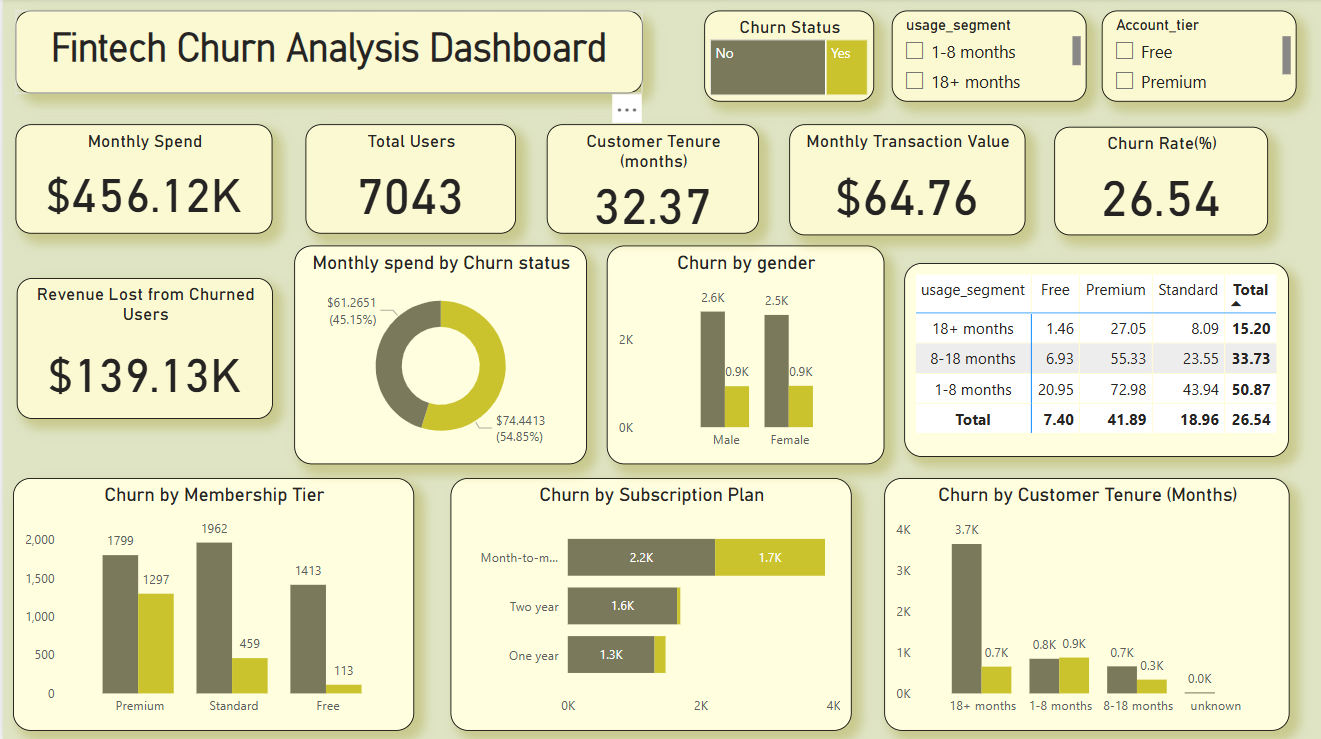

Layout of this report page (visuals, bound fields, positions):
{"tool":"powerbi","page":{"name":"Page 1","canvas":[1280,720],"ordinal":0},"visuals":[{"type":"barChart","title":"Churn by Subscription Plan","fields":{"Category":["customer_churn.plan_type"],"Series":["customer_churn.Churn"],"Y":["CountNonNull(customer_churn.Churn)"]},"box":[431.9,463.3,387.3,243.7],"z":0},{"type":"clusteredColumnChart","title":" Churn by Membership Tier","fields":{"Series":["customer_churn.Churn"],"Y":["CountNonNull(customer_churn.Churn)"],"Category":["customer_churn.Account_tier"]},"box":[9.7,463.3,387.3,243.7],"z":1000},{"type":"clusteredColumnChart","title":"Churn by gender ","fields":{"Series":["customer_churn.Churn"],"Y":["CountNonNull(customer_churn.Churn)"],"Category":["customer_churn.gender"]},"box":[582.7,238.9,267.8,211.1],"z":2000},{"type":"clusteredColumnChart","title":"Churn by Customer Tenure (Months)","fields":{"Series":["customer_churn.Churn"],"Y":["CountNonNull(customer_churn.Churn)"],"Category":["customer_churn.usage_segment"]},"box":[850.5,463.3,390.9,243.7],"z":3000},{"type":"card","title":"Churn Rate(%)","fields":{"Values":["customer_churn.Churn_Rate_(%)"]},"box":[1014.6,124.3,206.3,105],"z":4000},{"type":"card","title":"Customer Tenure (months)","fields":{"Values":["customer_churn.Measure"]},"box":[525.3,122.4,204.9,105.9],"z":5000},{"type":"card","title":"Total Users","fields":{"Values":["customer_churn.total_users"]},"box":[292.3,122.1,203.1,105.7],"z":6000},{"type":"donutChart","title":"Monthly spend by Churn status","fields":{"Y":["Avg(customer_churn.MonthlySpend)"],"Category":["customer_churn.Churn"]},"box":[281.1,238.9,282.3,211.1],"z":7000},{"type":"card","title":"Revenue Lost from Churned Users","fields":{"Values":["customer_churn.Revenue_lost_month"]},"box":[13.3,270.2,247.3,136.3],"z":8000},{"type":"card","title":"Monthly Spend","fields":{"Values":["customer_churn.total_monthly_spend"]},"box":[12.3,122.1,248.4,105.7],"z":9000},{"type":"card","title":"\tMonthly Transaction Value","fields":{"Values":["customer_churn.avg_spnd"]},"box":[758.9,121.9,228,107.4],"z":10000},{"type":"textbox","box":[12.1,12.1,605.6,79.6],"z":11000},{"type":"slicer","fields":{"Values":["customer_churn.Account_tier"]},"box":[1060.7,12.3,188,87.8],"z":12000},{"type":"slicer","fields":{"Values":["customer_churn.usage_segment"]},"box":[857.8,12.1,188.2,88.1],"z":14000},{"type":"treemap","title":" Churn Status","fields":{"Group":["customer_churn.Churn"],"Values":["customer_churn.total_users"]},"box":[676.8,12.1,164.1,88.1],"z":15000},{"type":"pivotTable","fields":{"Values":["customer_churn.Churn_Rate_(%)"],"Columns":["customer_churn.Account_tier"],"Rows":["customer_churn.usage_segment"]},"box":[869.8,255.8,371.6,187],"z":16000}]}

Visuals, with their boxes in screenshot pixels (x1, y1, x2, y2), scaled from the page's 1280x720 canvas onto the 1321x739 screenshot:
"Churn by Subscription Plan" barChart: <bbox>446, 476, 845, 726</bbox>
" Churn by Membership Tier" clusteredColumnChart: <bbox>10, 476, 410, 726</bbox>
"Churn by gender " clusteredColumnChart: <bbox>601, 245, 878, 462</bbox>
"Churn by Customer Tenure (Months)" clusteredColumnChart: <bbox>878, 476, 1281, 726</bbox>
"Churn Rate(%)" card: <bbox>1047, 128, 1260, 235</bbox>
"Customer Tenure (months)" card: <bbox>542, 126, 754, 234</bbox>
"Total Users" card: <bbox>302, 125, 511, 234</bbox>
"Monthly spend by Churn status" donutChart: <bbox>290, 245, 581, 462</bbox>
"Revenue Lost from Churned Users" card: <bbox>14, 277, 269, 417</bbox>
"Monthly Spend" card: <bbox>13, 125, 269, 234</bbox>
"	Monthly Transaction Value" card: <bbox>783, 125, 1019, 235</bbox>
textbox: <bbox>12, 12, 637, 94</bbox>
slicer - customer_churn.Account_tier: <bbox>1095, 13, 1289, 103</bbox>
slicer - customer_churn.usage_segment: <bbox>885, 12, 1080, 103</bbox>
" Churn Status" treemap: <bbox>698, 12, 868, 103</bbox>
pivotTable - customer_churn.Churn_Rate_(%) x customer_churn.Account_tier: <bbox>898, 263, 1281, 454</bbox>
